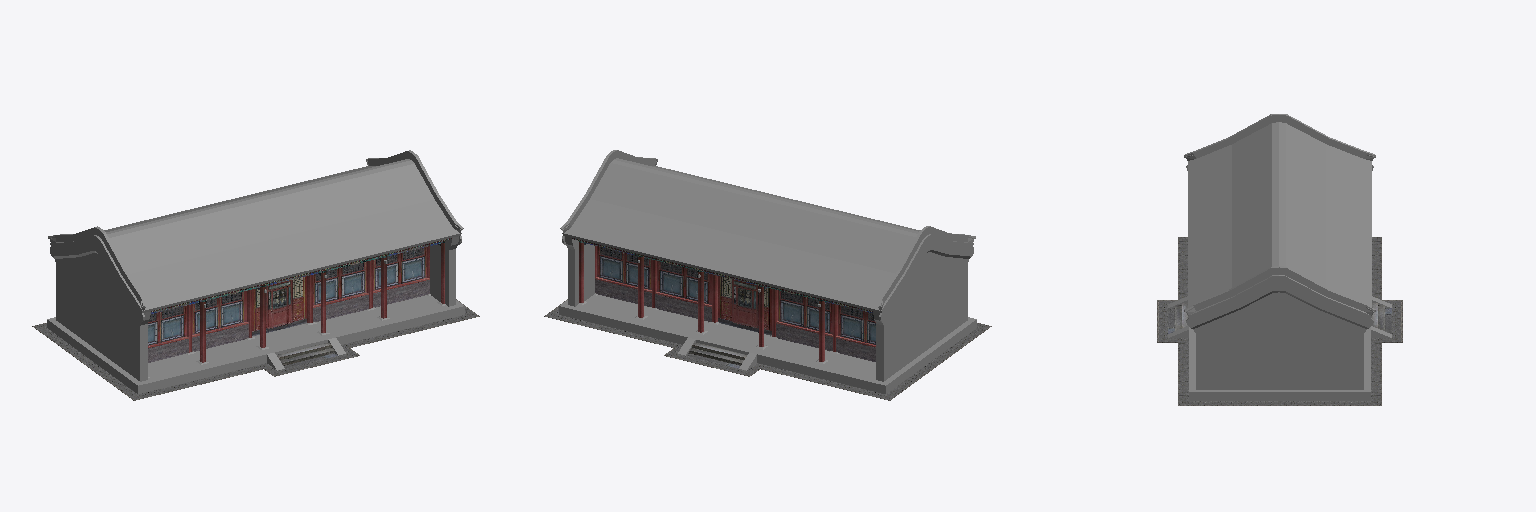
3 views of the same model, side by side, from view 1: azimuth 30°, elevation 25°; view 2: azimuth 150°, elevation 25°; view 3: azimuth 270°, elevation 25° (orthographic).
Visible parts, largest first — view 1: polySurface653; view 2: polySurface653; view 3: polySurface653.
Boxes of the visible parts, box(x1,y1,x2,y2) form: polySurface653: box(32, 150, 479, 400); polySurface653: box(544, 150, 991, 400); polySurface653: box(1157, 114, 1402, 405).
Size of the model in its own units: 91.74 by 33.2 by 56.31.
14 materials, 6 textured.